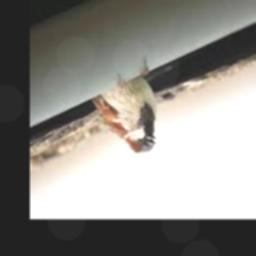Sparrow: (91, 62, 158, 153)
